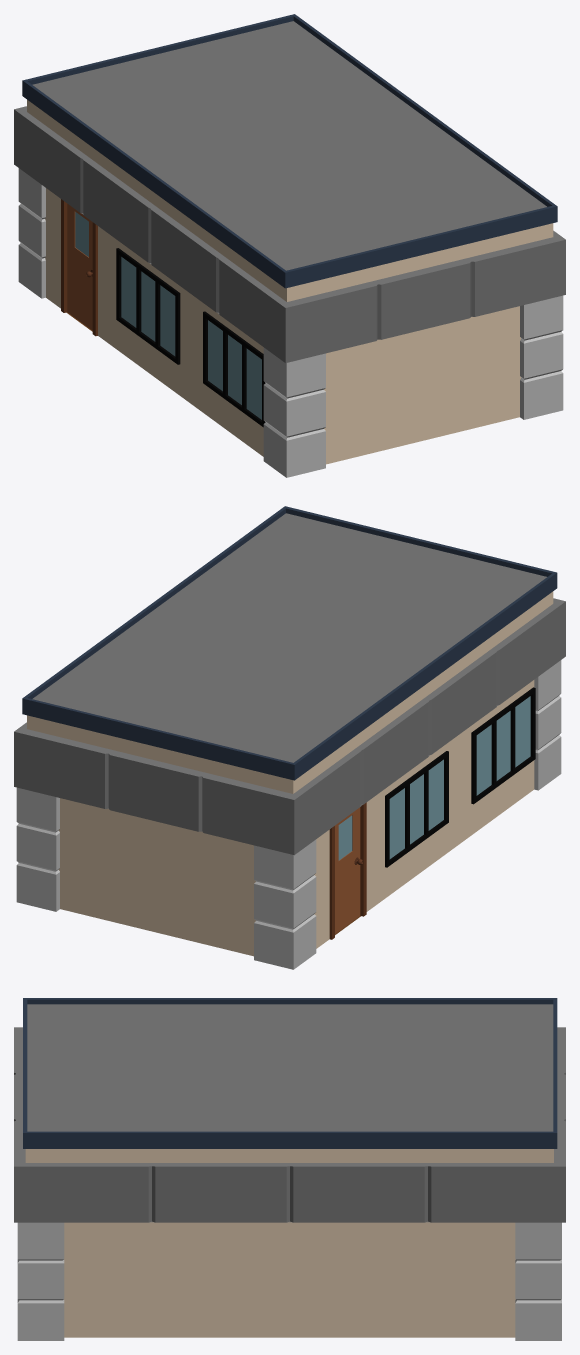
File: Office.fbx
The picture shows the model from 3 angles, top to bottom: view 1: azimuth 30°, elevation 25°; view 2: azimuth 150°, elevation 25°; view 3: azimuth 270°, elevation 25°; orthographic projection.
Parts seen in each view (by area): view 1: Top Roof, Main, Top, Pillars, Top Small, Windows, Door; view 2: Top Roof, Main, Top, Pillars, Top Small, Windows, Door; view 3: Top Roof, Main, Top, Top Small, Pillars.
Part boxes in pixels (x1,y1,x2,y2): Top Roof: (32, 21, 546, 270); Main: (27, 99, 553, 464); Top: (14, 106, 565, 363); Pillars: (18, 168, 563, 477); Top Small: (22, 14, 557, 288); Windows: (121, 257, 261, 419); Door: (67, 204, 92, 330); Top Roof: (32, 513, 546, 762); Main: (27, 591, 553, 956); Top: (14, 598, 565, 855); Pillars: (16, 660, 561, 969); Top Small: (22, 506, 557, 780); Windows: (389, 696, 530, 859); Door: (335, 807, 362, 933); Top Roof: (27, 1004, 553, 1131); Main: (25, 1149, 553, 1337); Top: (14, 1027, 565, 1222); Top Small: (23, 998, 557, 1148); Pillars: (17, 1222, 561, 1340).
Bounding box in the file's own units: 600 × 415 × 1007.
